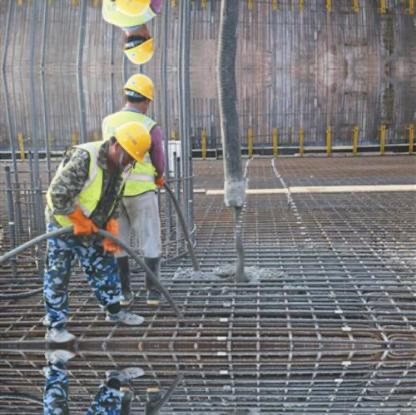No Safety Helmet: (98, 116, 159, 185), (115, 69, 165, 121), (115, 22, 166, 69)
